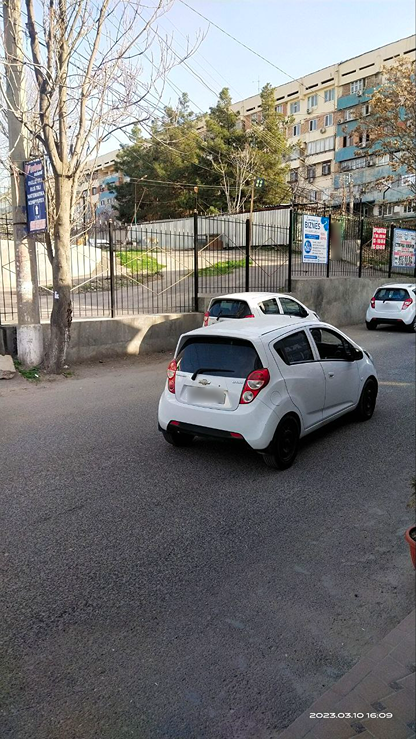car: (158, 325, 388, 460), (203, 284, 336, 324), (356, 275, 416, 332)
tree: (0, 0, 150, 379), (241, 77, 311, 210), (198, 86, 256, 206)
